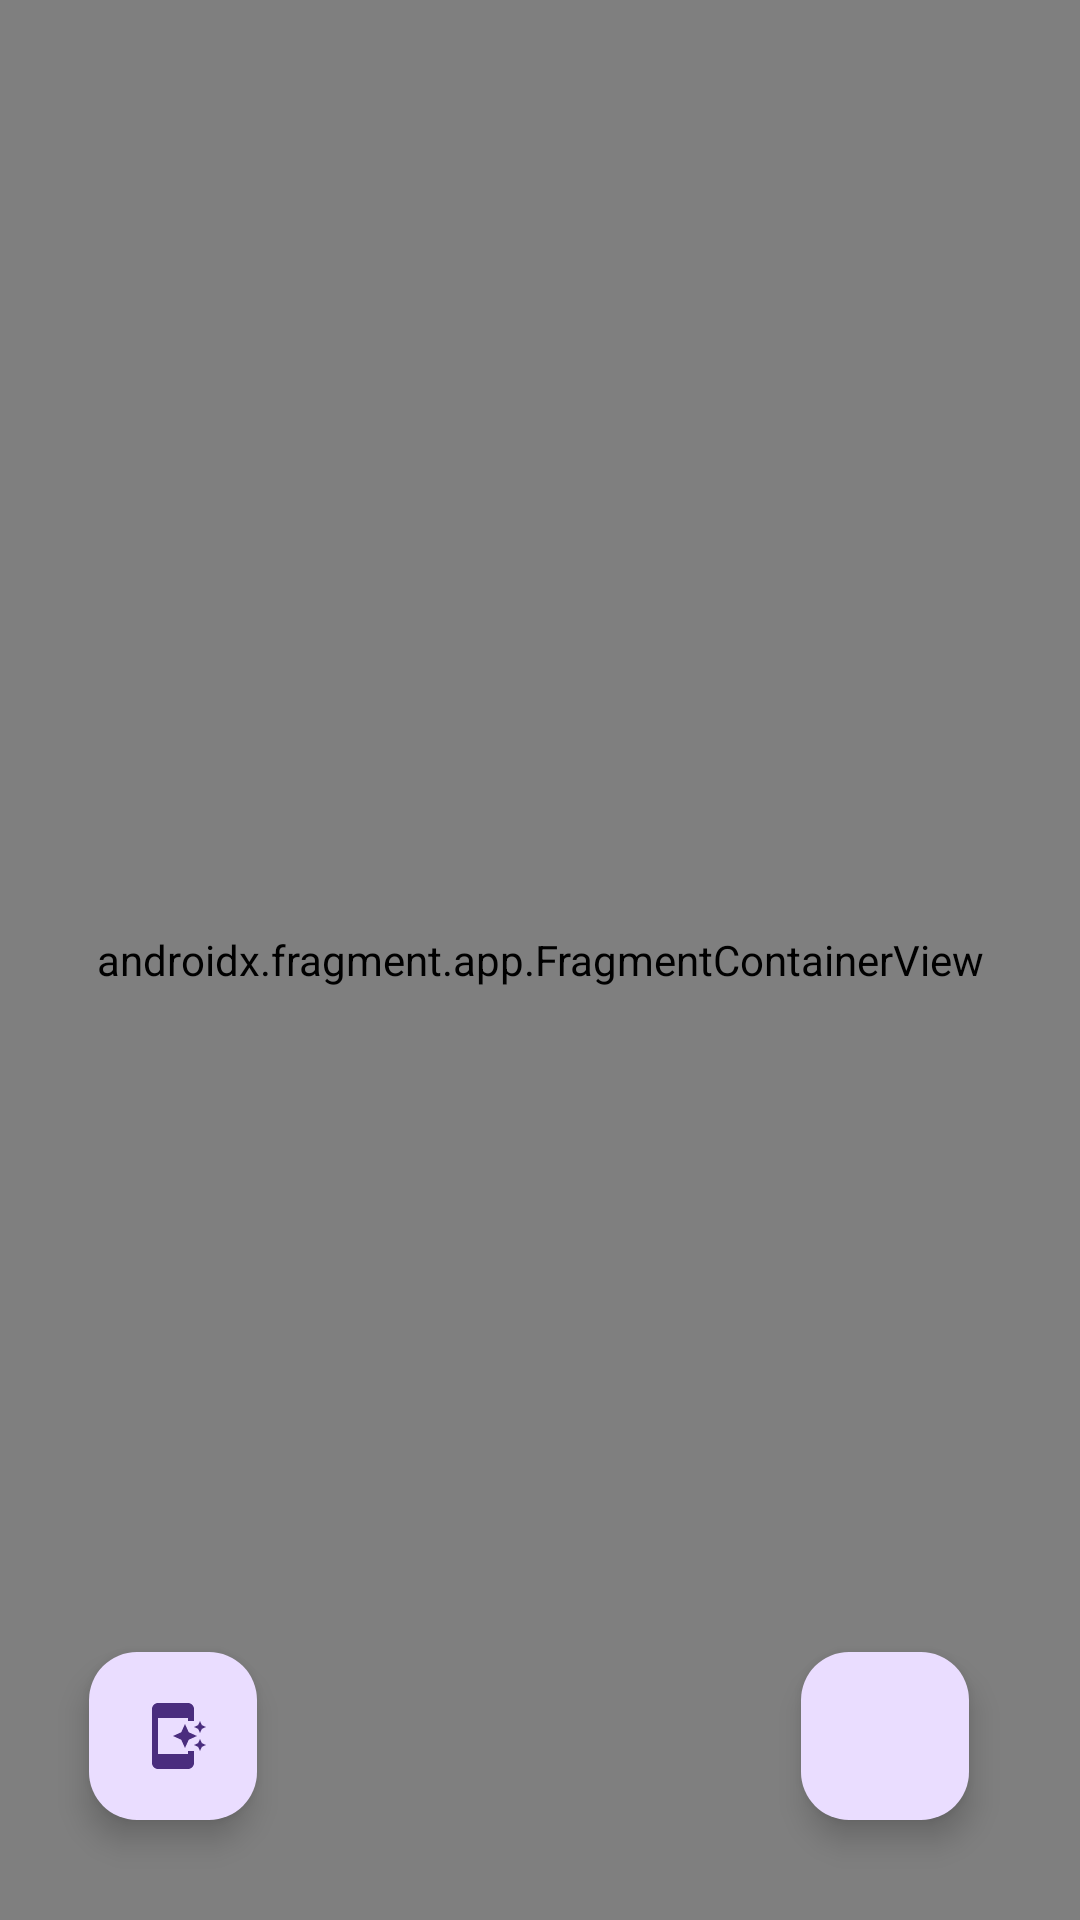

Point at icon controls on the screen. Image size 1080 × 1920, points as (x,y).
go to ar: (173,1736)
